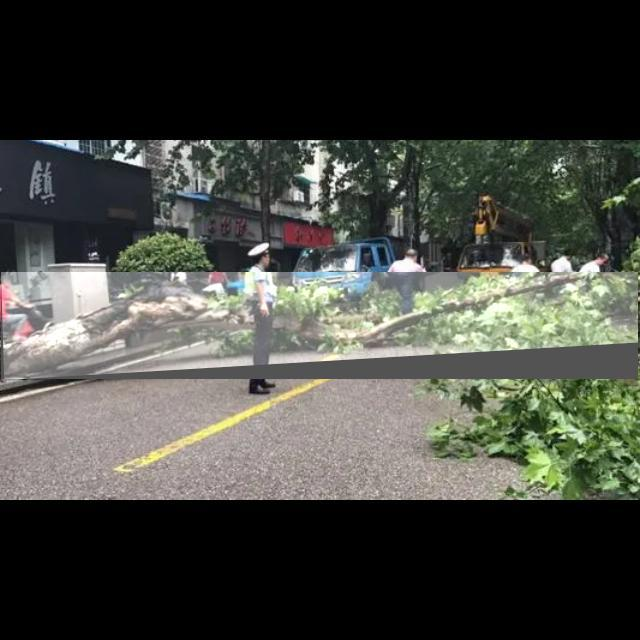fallen_tree: (1, 272, 639, 380)
